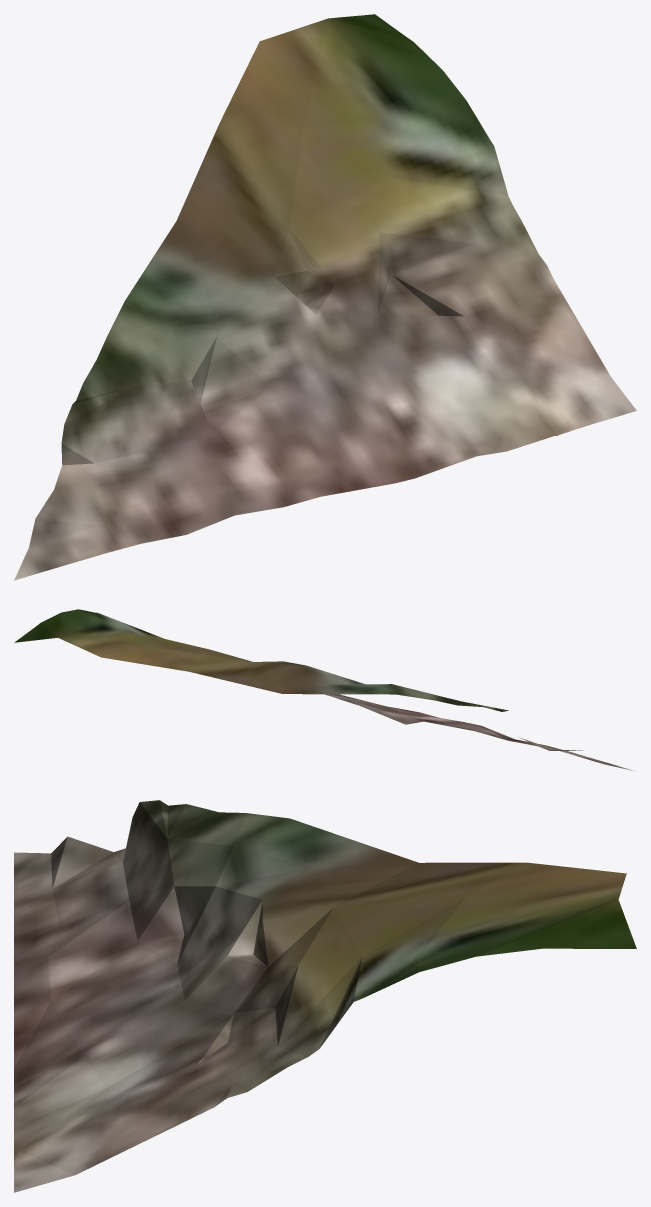
3 views of the same model, one above another, from view 1: azimuth 30°, elevation 25°; view 2: azimuth 150°, elevation 25°; view 3: azimuth 270°, elevation 25° (orthographic). The views are drawn at different scales.
Bounding box in the file's own units: 2.08 × 0.7595 × 1.52.
Materials: 1 (1 with a texture image).
